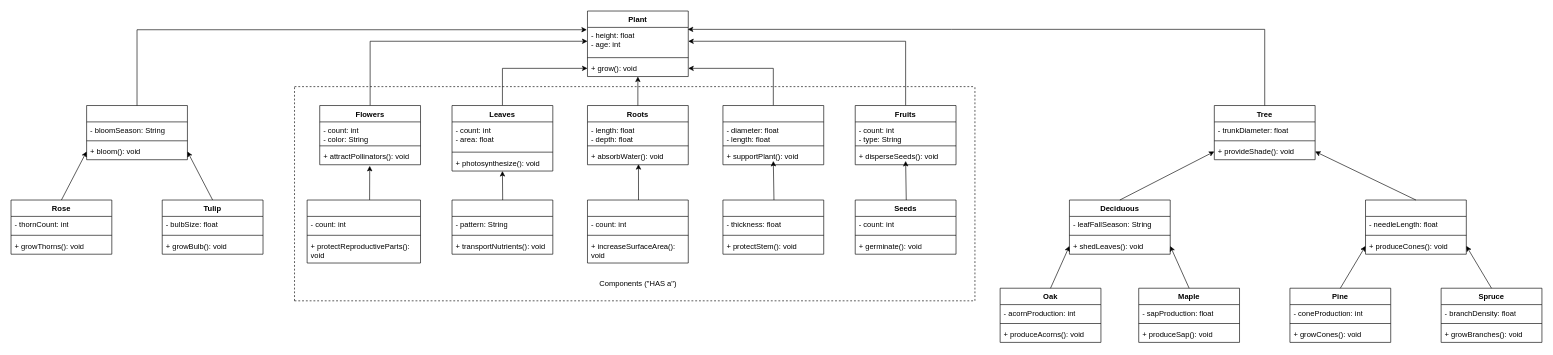
This 1553x355 diagram has some shape labels left out. Here are the shapes that lost their labels. From the top down, the box of each, then its label:
(86, 105, 187, 160): Flowering Plant
(722, 105, 824, 165): Stem
(306, 199, 421, 263): Petals
(451, 199, 553, 254): Veins
(587, 199, 688, 263): Root Hairs
(722, 199, 824, 254): Bark
(1365, 199, 1466, 254): Coniferous
